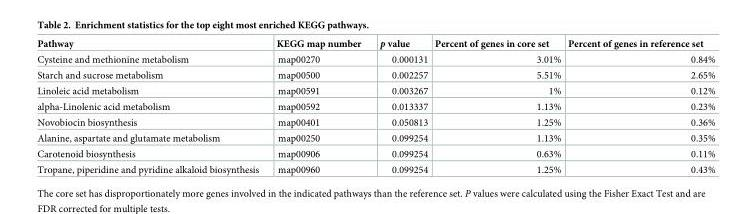table: (36, 36, 714, 174)
table column: (36, 36, 267, 174), (563, 36, 714, 174), (430, 36, 563, 174), (267, 36, 369, 174), (369, 36, 430, 174)
table column header: (36, 36, 714, 51)
table row: (36, 51, 714, 67), (36, 82, 714, 98), (36, 98, 714, 114), (36, 114, 714, 130), (36, 145, 714, 161), (36, 36, 714, 51), (36, 67, 714, 82), (36, 130, 714, 145), (36, 161, 714, 174)
